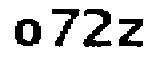2: (82, 6, 114, 50)
7: (48, 6, 84, 49)
o: (12, 17, 44, 48)
z: (116, 16, 144, 50)
